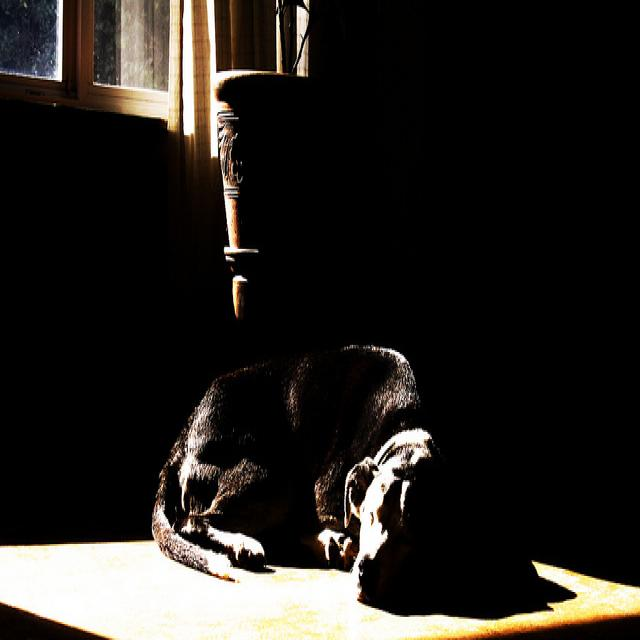Dog: (175, 284, 543, 626)
